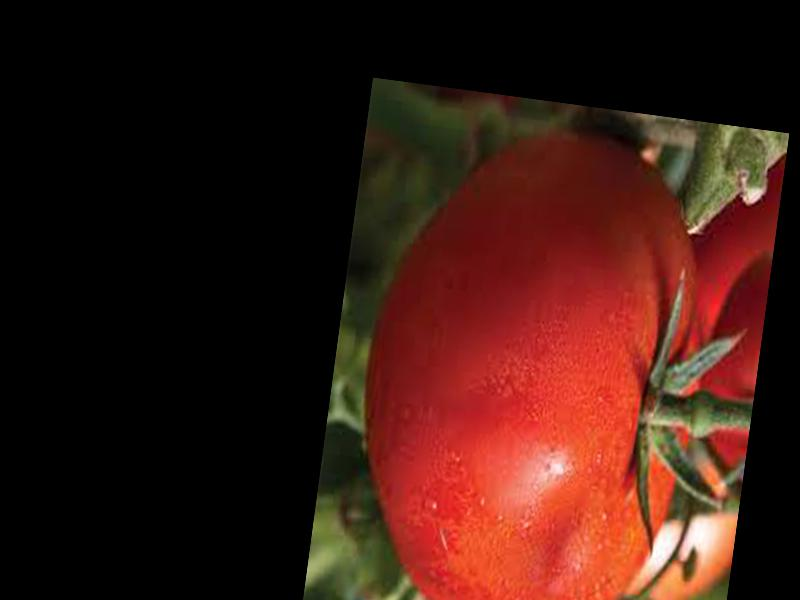Tomato: (338, 112, 727, 600)
